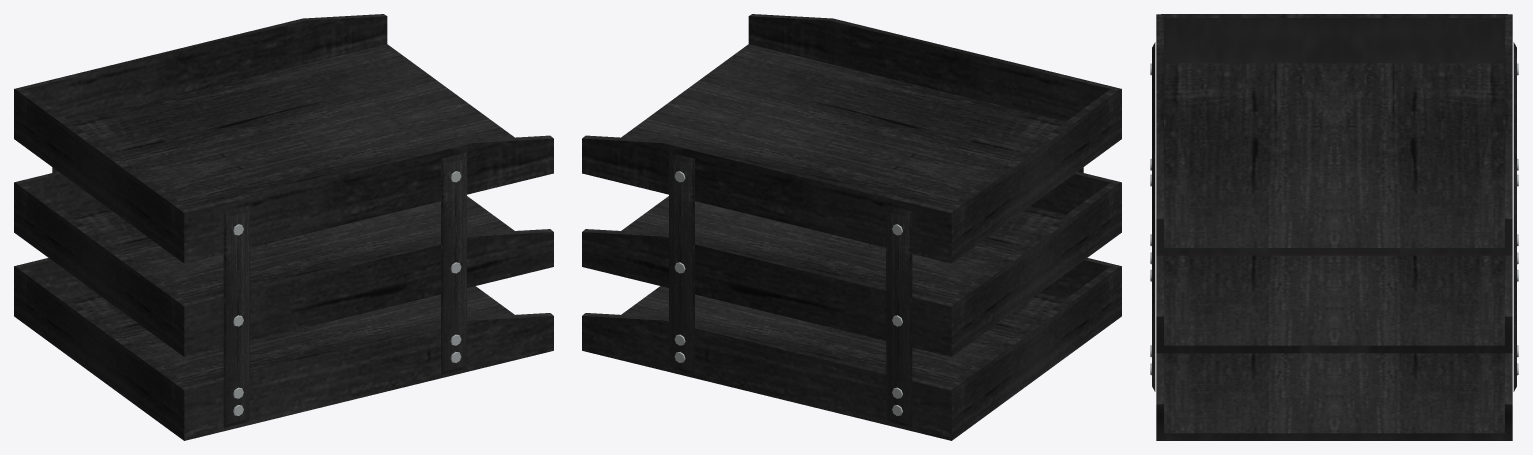
File: note_take.fbx
The picture shows the model from 3 angles, left to right: view 1: azimuth 30°, elevation 25°; view 2: azimuth 150°, elevation 25°; view 3: azimuth 270°, elevation 25°; orthographic projection. The views are drawn at different scales.
Parts seen in each view (by area): view 1: obj1; view 2: obj1; view 3: obj1.
Boxes of the visible parts, box(x1,y1,x2,y2) form: obj1: box(14, 14, 553, 440); obj1: box(582, 14, 1121, 440); obj1: box(1150, 14, 1518, 440).
Bounding box in the file's own units: 1.04 × 0.6096 × 0.8535.
1 material, 1 textured.
